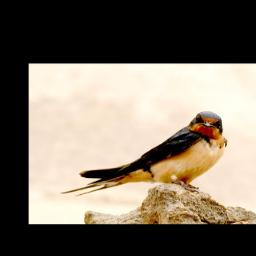Swallow: (60, 110, 229, 202)
